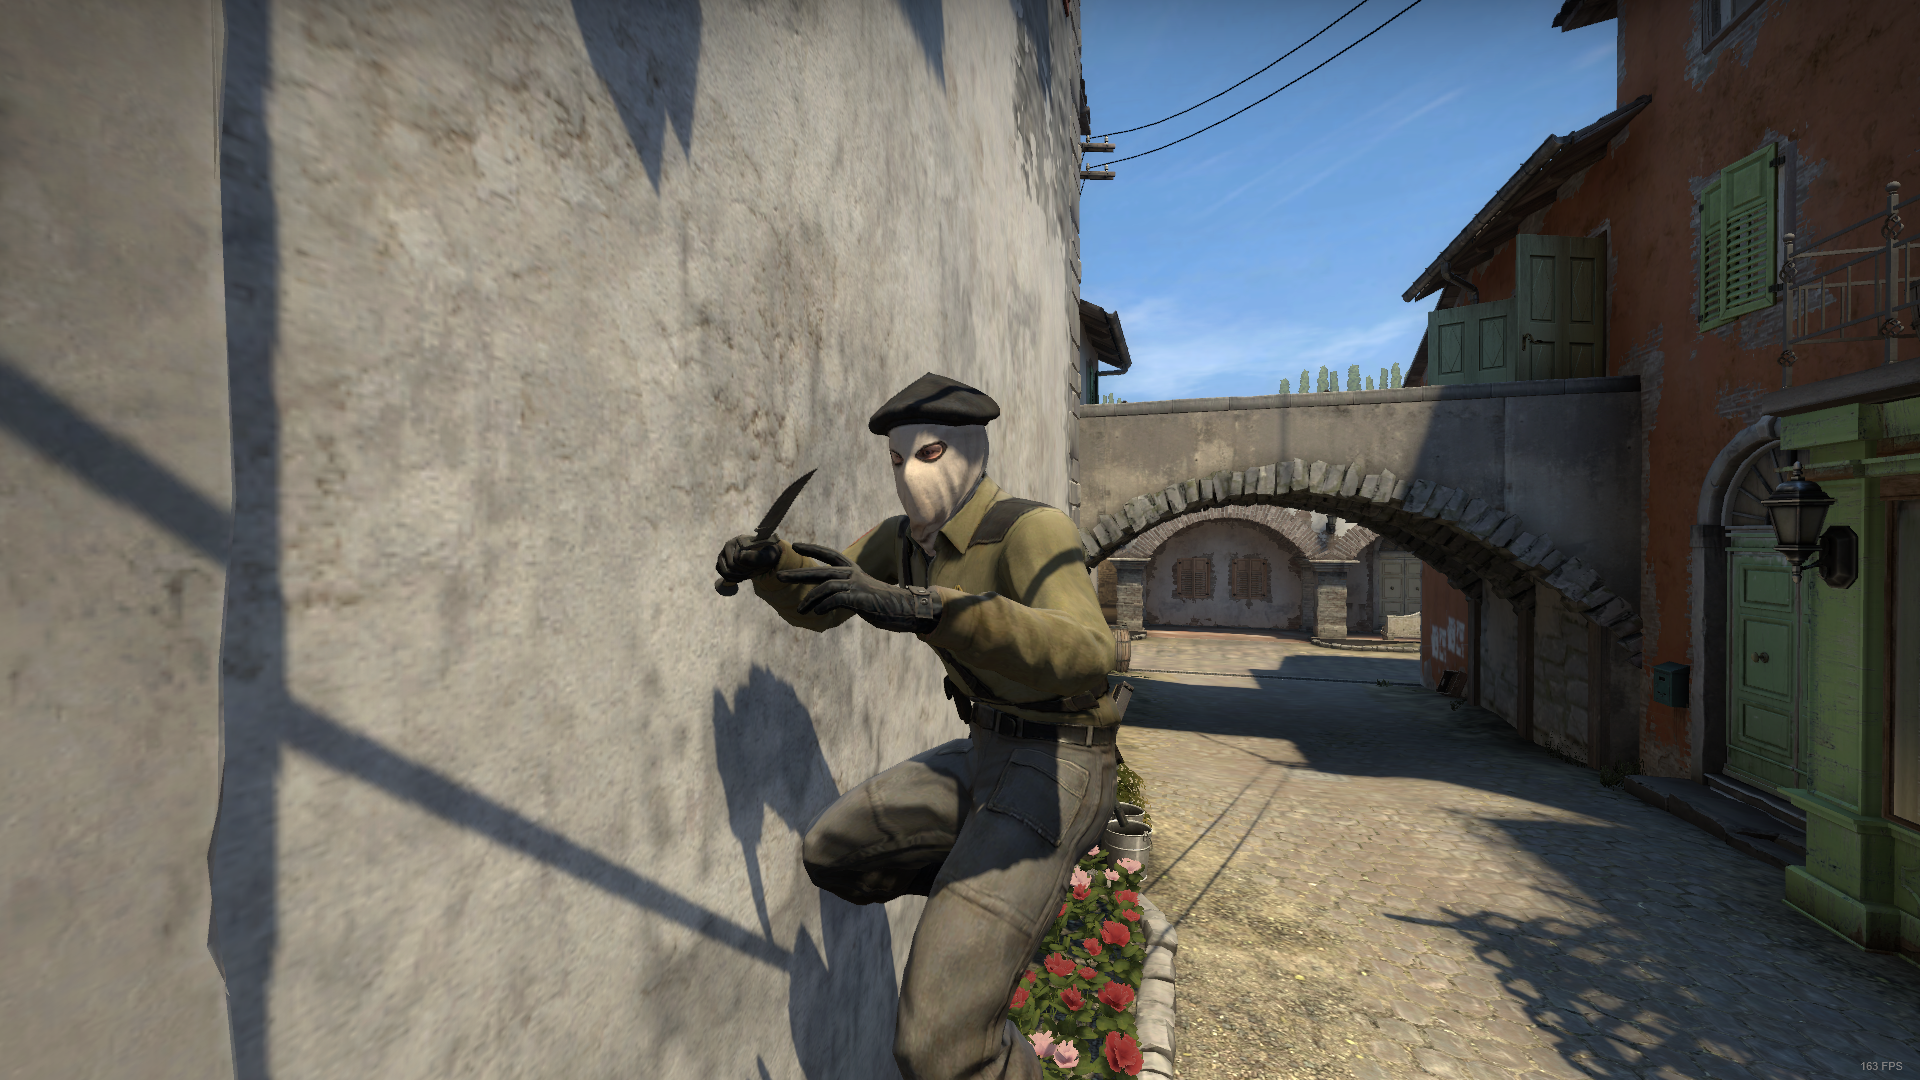t: (719, 373, 1133, 1080)
